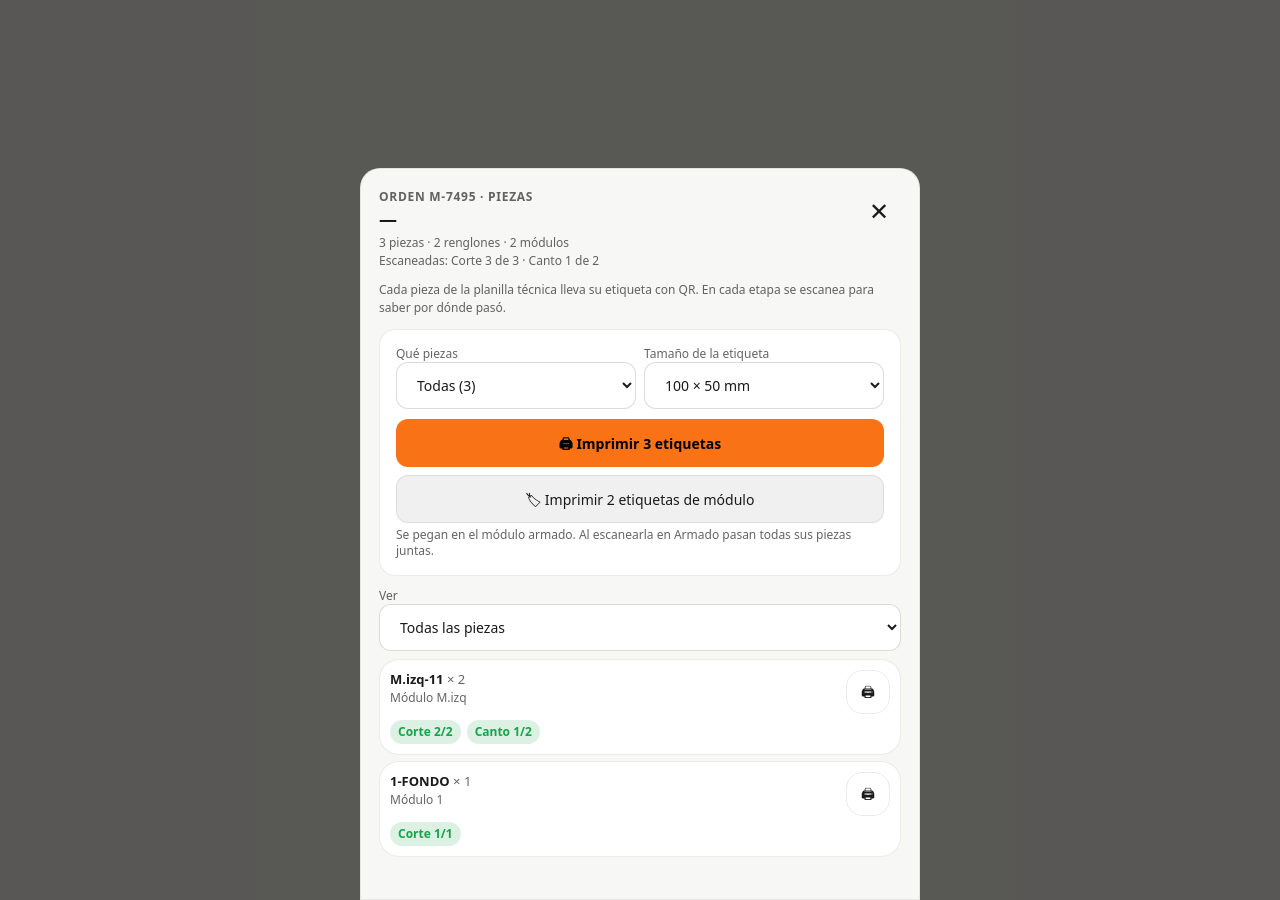
Test case: piezas de la OT — avance por etapa y 'las que faltan en'
The image size is (1280, 900).
Expected: the text "Escaneadas: Corte 3 de 3 · Canto 1 de 2" is shown, [379,252,599,269]
Expected: the text "Canto 1/2" is shown, [467,720,540,744]
Select "Las que faltan en Canto (1)" in the dropdown labelled "Ver": (640, 628) [379,604,901,651]
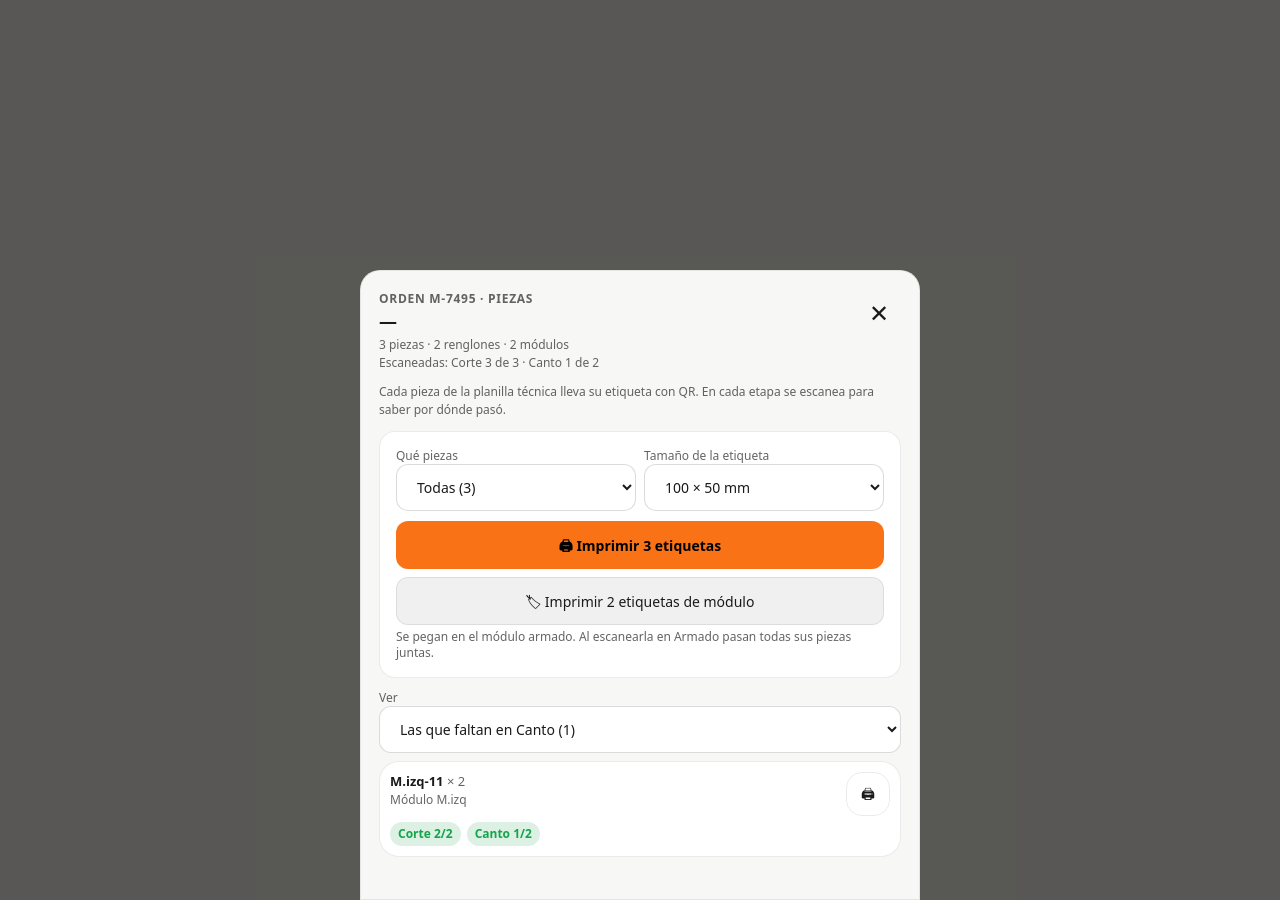
Expected: the text "M.izq-11 × 2" is shown, [390,772,465,790]
Select "Las que faltan en Corte (0)" in the dropdown labelled "Ver": (640, 730) [379,706,901,753]
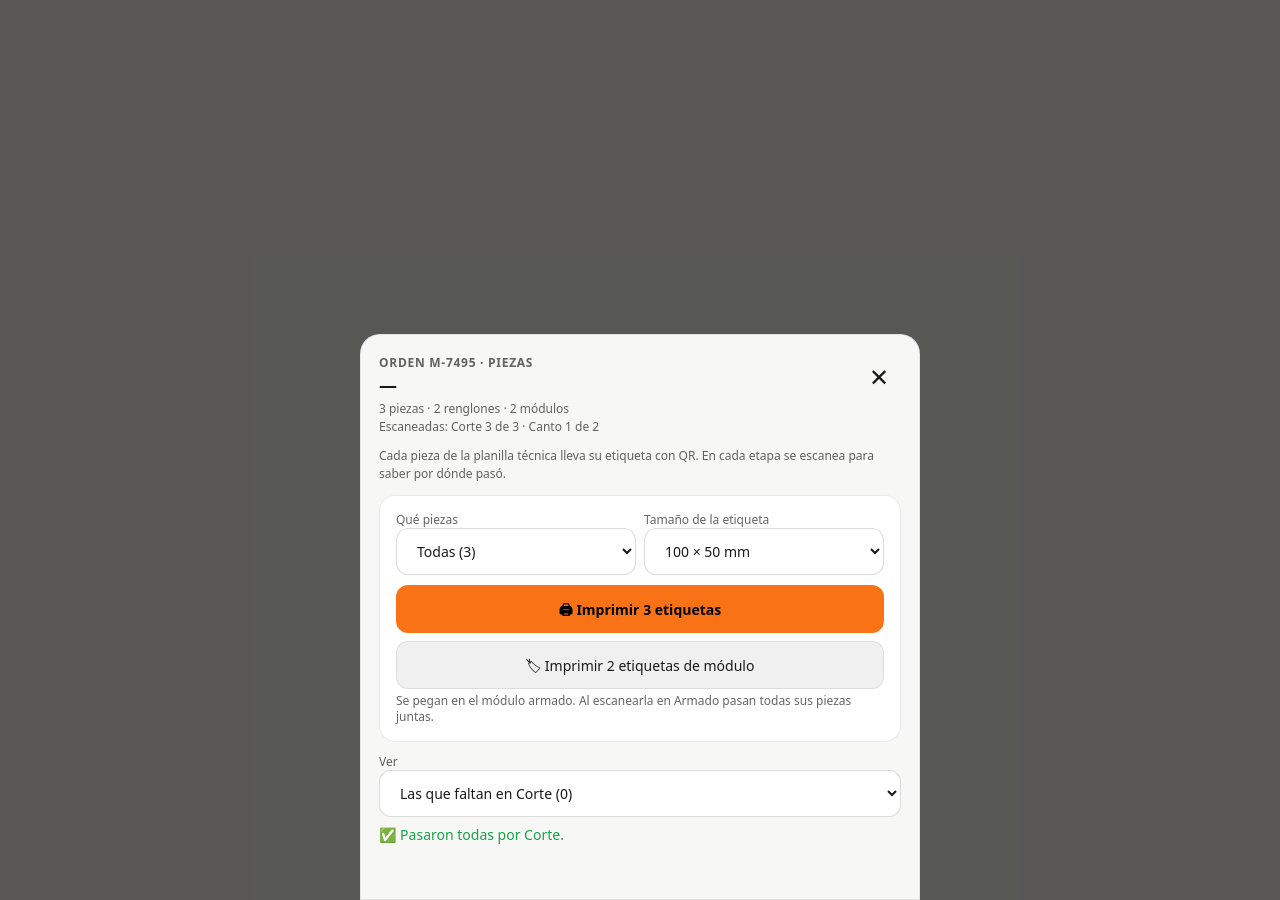
Expected: the text "✅ Pasaron todas por Corte." is shown, [379,825,564,844]
